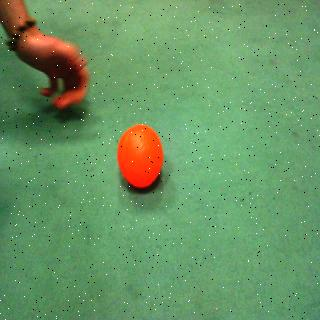orange: (117, 122, 166, 193)
